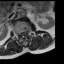CCS_normal: (22, 30, 24, 40)
LFS_stenosis: (26, 29, 28, 34)
LLS_severe_stenosis: (24, 30, 26, 37)
RFS_stenosis: (18, 30, 20, 37)
RLS_stenosis: (20, 30, 22, 37)
